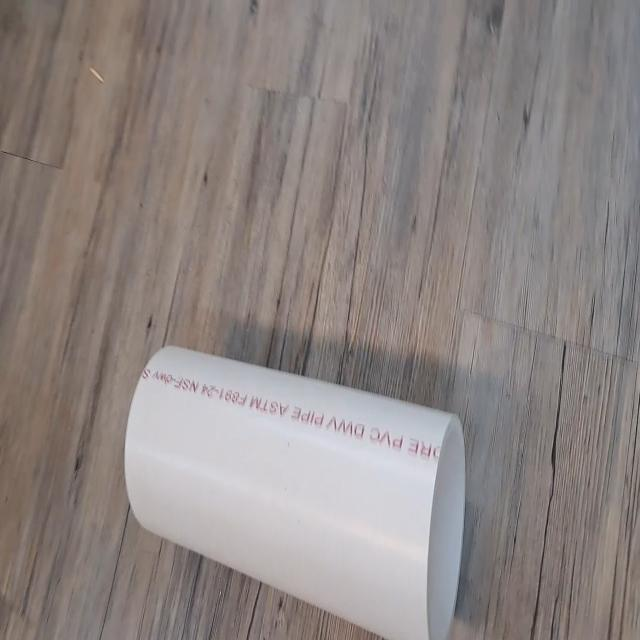CORAL: (121, 342, 472, 640)
